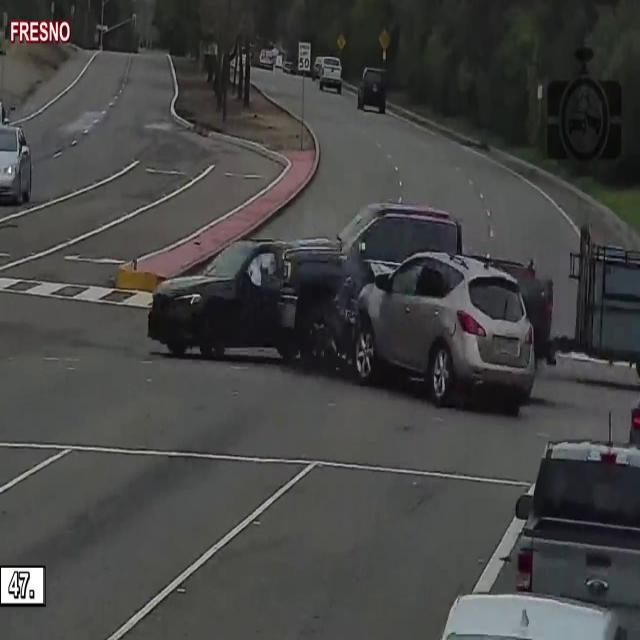accident: (137, 203, 543, 422)
